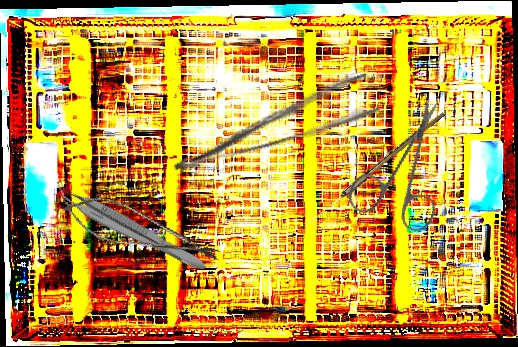Dressing Forceps: (160, 69, 382, 176)
Iris Scissors: (324, 96, 482, 252)
Micro Scissor: (55, 186, 227, 274)
Surgical Spoon: (306, 109, 446, 227)
Tissue Forceps: (49, 178, 213, 275)
